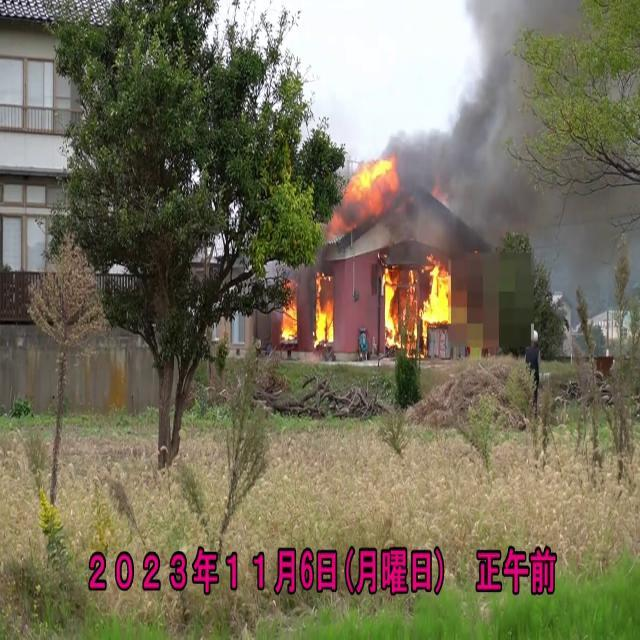Fire: (379, 250, 457, 348), (339, 150, 398, 210), (313, 270, 338, 348)
Smoke: (383, 0, 639, 262)
